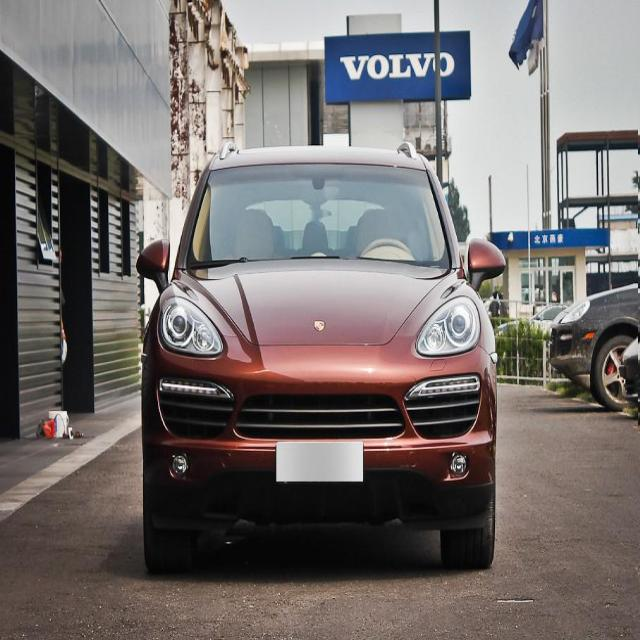front_bumper: (140, 409, 497, 530)
front_glass: (184, 159, 448, 272)
front_left_side_light: (415, 294, 482, 358)
front_left_side_mirror: (467, 238, 507, 286)
front_right_side_light: (158, 295, 224, 358)
front_right_side_mirror: (136, 236, 172, 292)
